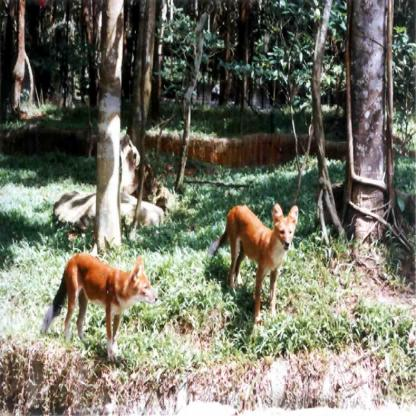dhole: (40, 249, 158, 361), (209, 202, 298, 322)
